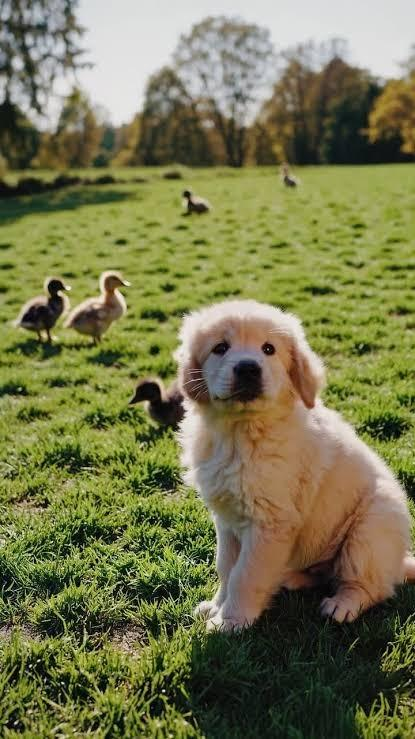non-dog: (63, 270, 130, 347), (11, 279, 71, 346), (128, 379, 186, 430), (180, 190, 210, 213), (282, 169, 298, 187)
puppy-dog: (177, 298, 415, 634)
